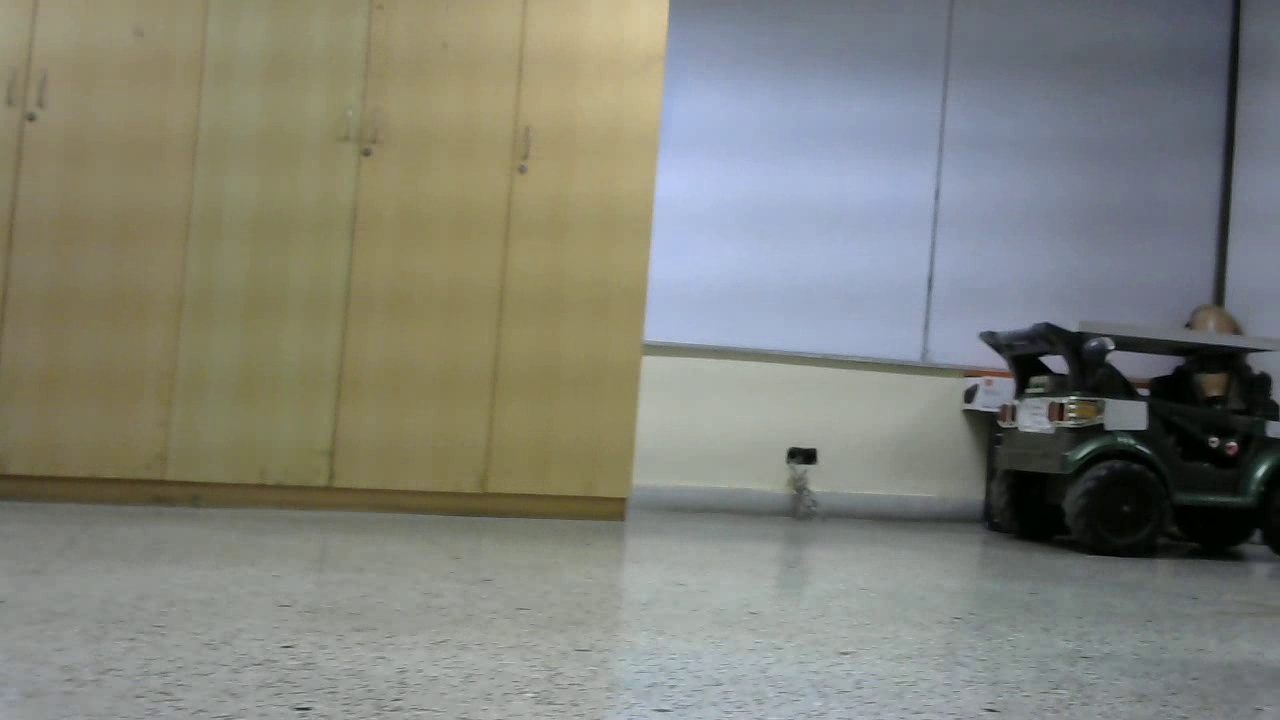chair: (574, 104, 822, 575)
